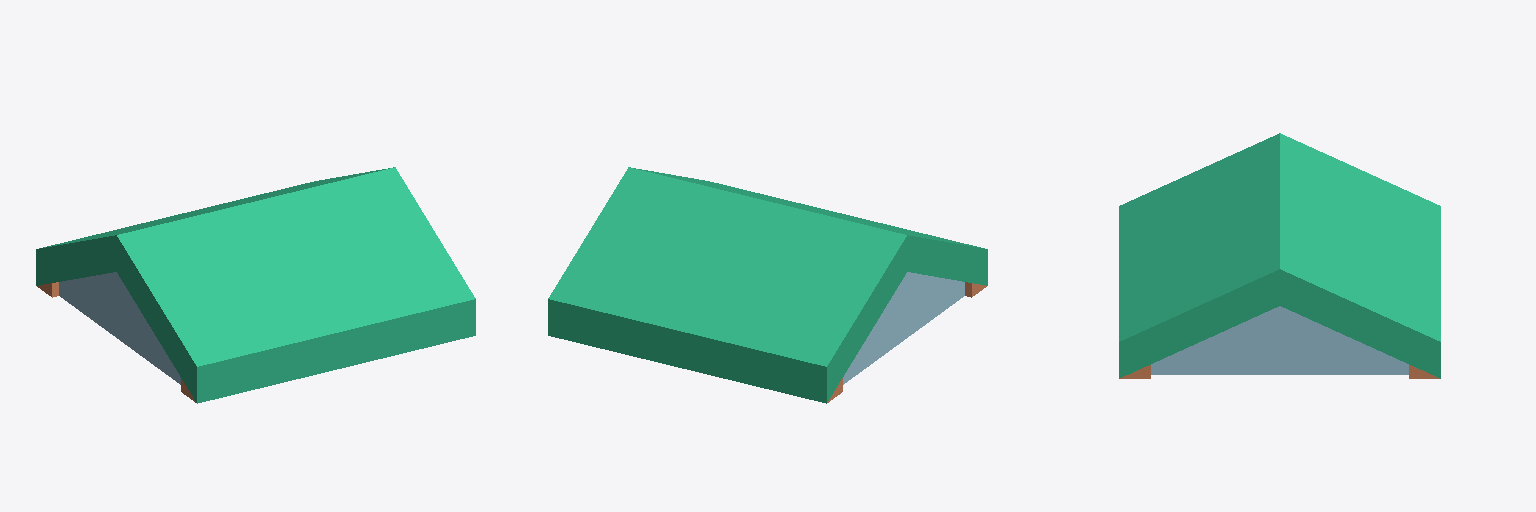
Rendered from roofGableTop.obj.
3 renders of one model, left to right at view 1: azimuth 30°, elevation 25°; view 2: azimuth 150°, elevation 25°; view 3: azimuth 270°, elevation 25°, orthographic.
Parts seen in each view (by area): view 1: roofGableTop; view 2: roofGableTop; view 3: roofGableTop.
Part boxes in pixels (x1,y1,x2,y2): roofGableTop: (36,167,475,403); roofGableTop: (548,167,987,403); roofGableTop: (1119,133,1440,378).
Size of the model in its own units: 1 by 0.3759 by 1.